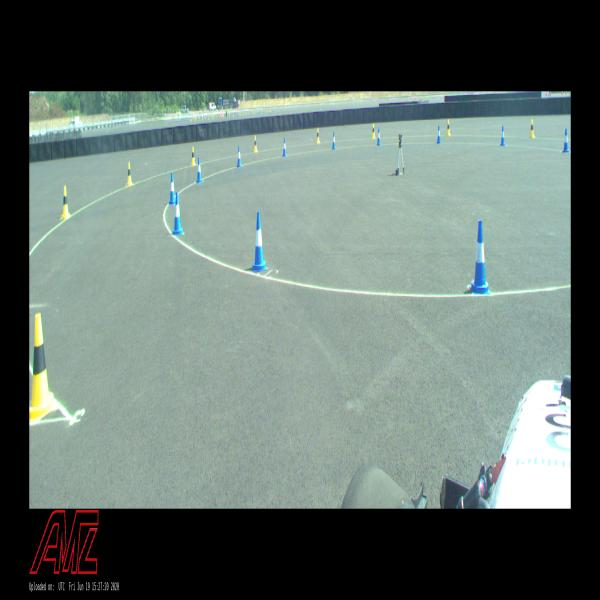blue_cone: (469, 220, 491, 295), (252, 212, 267, 272), (172, 192, 184, 235), (168, 173, 176, 205), (196, 157, 203, 183), (236, 146, 243, 167), (563, 128, 569, 152), (500, 126, 506, 146), (436, 124, 442, 144), (282, 138, 288, 156), (376, 128, 381, 145), (331, 132, 336, 149)
yellow_cone: (29, 313, 54, 421), (61, 185, 70, 219), (126, 162, 132, 185), (530, 119, 536, 138), (191, 146, 196, 166), (446, 120, 451, 136), (254, 136, 258, 152), (372, 123, 376, 138), (317, 128, 320, 143)
